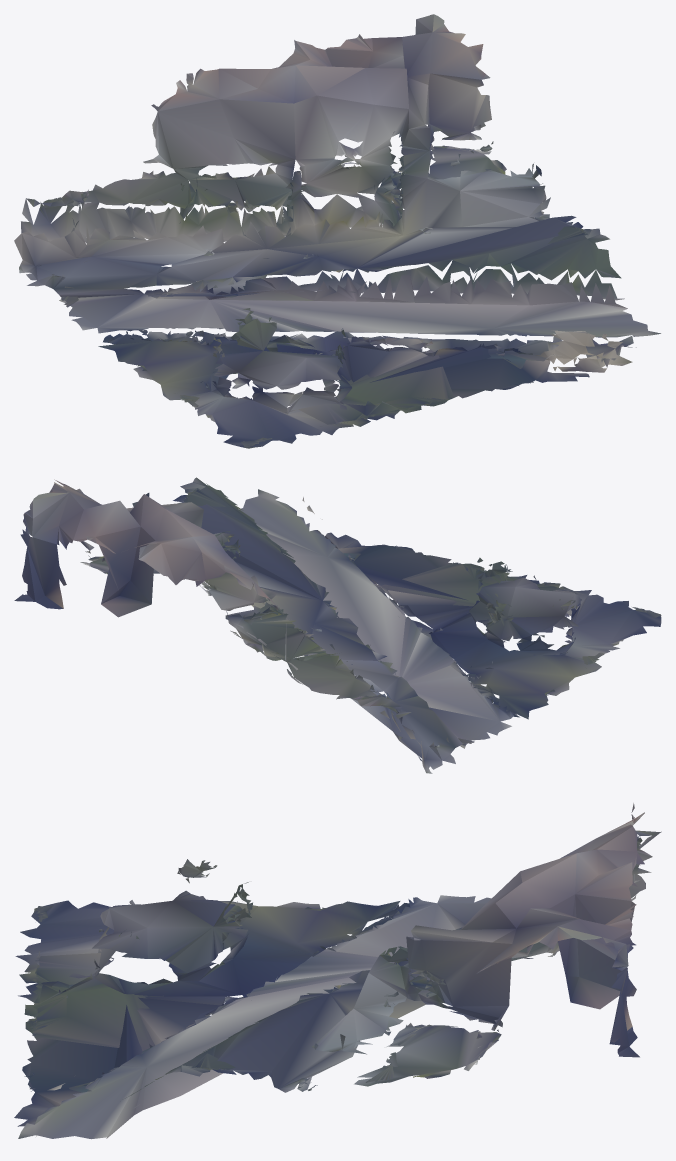
3 views of the same model, one above another, from view 1: azimuth 30°, elevation 25°; view 2: azimuth 150°, elevation 25°; view 3: azimuth 270°, elevation 25° (orthographic). The views are drawn at different scales.
Bounding box in the file's own units: 109 × 44.59 × 109.
